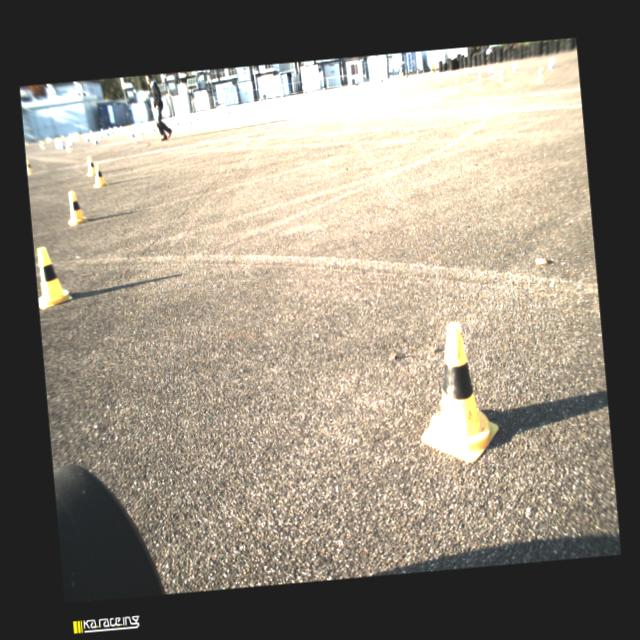blue_cone: (546, 57, 554, 69), (91, 134, 98, 144), (128, 128, 134, 138), (511, 61, 517, 71), (151, 124, 156, 132), (487, 66, 492, 74), (59, 140, 64, 148), (84, 134, 88, 142), (464, 67, 468, 75), (444, 69, 448, 76), (98, 131, 102, 138), (100, 128, 103, 133), (196, 114, 198, 120), (289, 94, 291, 100), (208, 112, 210, 117), (176, 120, 178, 124), (248, 104, 250, 108), (266, 100, 268, 104), (271, 99, 273, 103)
yellow_cone: (411, 319, 501, 466), (33, 245, 72, 309), (66, 190, 86, 225), (90, 162, 106, 188), (84, 156, 94, 176), (534, 66, 544, 84), (26, 158, 32, 175), (497, 70, 504, 82), (65, 140, 72, 152), (138, 128, 144, 140), (476, 70, 482, 82), (454, 72, 459, 82), (439, 74, 444, 82), (39, 140, 44, 148), (189, 119, 193, 127), (76, 132, 80, 140), (211, 115, 215, 122), (227, 110, 230, 116), (240, 106, 243, 112), (256, 102, 258, 109), (298, 94, 300, 99)
